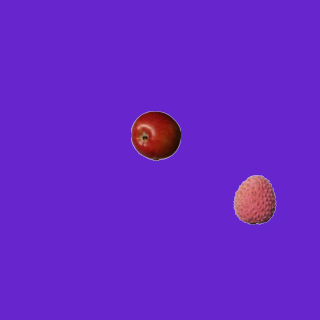Apple Braeburn: (130, 110, 180, 160)
Lychee: (229, 174, 279, 224)
